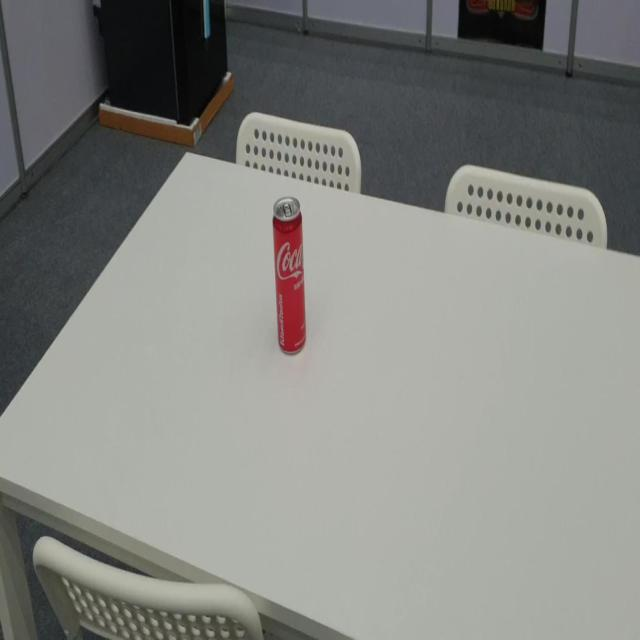coca-cola: (271, 193, 307, 359)
